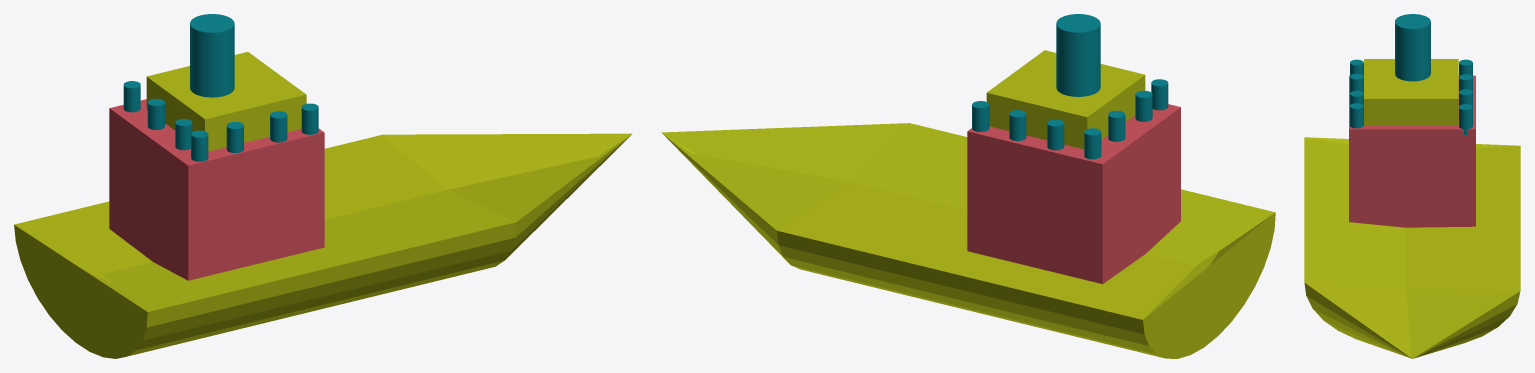
Rendered from ship.dae.
3 renders of one model, left to right at view 1: azimuth 30°, elevation 25°; view 2: azimuth 150°, elevation 25°; view 3: azimuth 270°, elevation 25°, orthographic. The views are drawn at different scales.
Parts seen in each view (by area): view 1: Cylinder, Cube, Cube.1, Cylinder.1 (×2), Cylinder.4, Cylinder.6, Cylinder.7, Cylinder.2, Cylinder.5, Cylinder.3; view 2: Cylinder, Cube, Cube.1, Cylinder.1 (×2), Cylinder.8, Cylinder.3, Cylinder.2, Cylinder.9, Cylinder.10, Cylinder.4; view 3: Cylinder, Cube, Cube.1, Cylinder.1 (×2), Cylinder.10, Cylinder.7, Cylinder.5, Cylinder.8, Cylinder.9, Cylinder.4, Cylinder.6.
Part boxes in pixels (left/top/right/bottom): Cylinder: left=14, top=133, right=632, bottom=358; Cube: left=109, top=99, right=324, bottom=280; Cube.1: left=146, top=52, right=306, bottom=151; Cylinder.1 (×2): left=123, top=14, right=234, bottom=112; Cylinder.4: left=191, top=130, right=208, bottom=161; Cylinder.6: left=270, top=111, right=287, bottom=142; Cylinder.7: left=301, top=103, right=318, bottom=134; Cylinder.2: left=147, top=98, right=164, bottom=129; Cylinder.5: left=226, top=121, right=243, bottom=152; Cylinder.3: left=175, top=119, right=192, bottom=150; Cylinder: left=661, top=123, right=1275, bottom=358; Cube: left=967, top=104, right=1180, bottom=284; Cube.1: left=986, top=50, right=1145, bottom=149; Cylinder.1 (×2): left=1056, top=14, right=1101, bottom=159; Cylinder.8: left=1047, top=119, right=1064, bottom=150; Cylinder.3: left=1135, top=90, right=1152, bottom=121; Cylinder.2: left=1108, top=110, right=1125, bottom=141; Cylinder.9: left=1009, top=110, right=1026, bottom=141; Cylinder.10: left=972, top=101, right=989, bottom=131; Cylinder.4: left=1151, top=79, right=1168, bottom=110; Cylinder: left=1304, top=137, right=1520, bottom=358; Cube: left=1349, top=75, right=1475, bottom=227; Cube.1: left=1364, top=59, right=1458, bottom=125; Cylinder.1 (×2): left=1395, top=14, right=1472, bottom=81; Cylinder.10: left=1459, top=104, right=1472, bottom=134; Cylinder.7: left=1350, top=103, right=1363, bottom=128; Cylinder.5: left=1350, top=73, right=1363, bottom=93; Cylinder.8: left=1459, top=74, right=1472, bottom=91; Cylinder.9: left=1459, top=89, right=1472, bottom=106; Cylinder.4: left=1350, top=59, right=1363, bottom=76; Cylinder.6: left=1350, top=90, right=1363, bottom=105.
Size of the model in its own units: 2.99 by 1.51 by 1.26.
